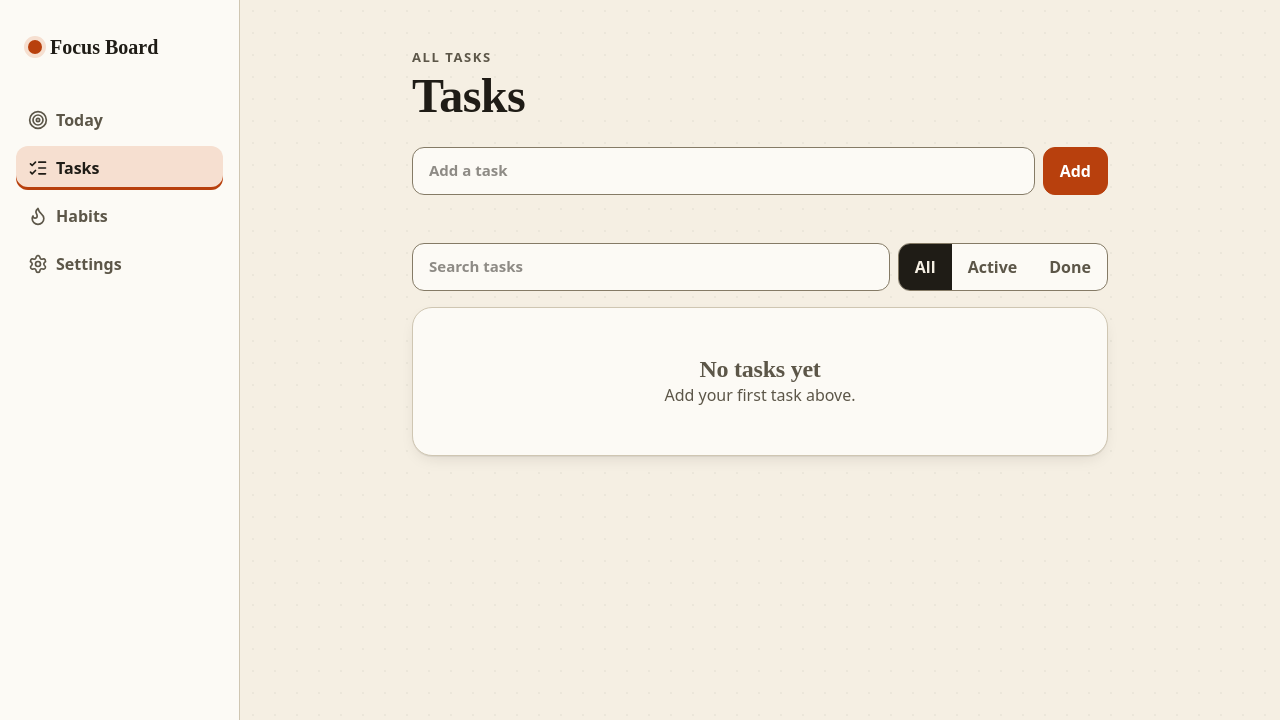
AC9: persistence › surfaces a failed save
This screenshot has width=1280, height=720.
Type "x" into the field named "New task" at [723, 171], box x1=412 y1=147 x2=1035 y2=195
Then press Enter
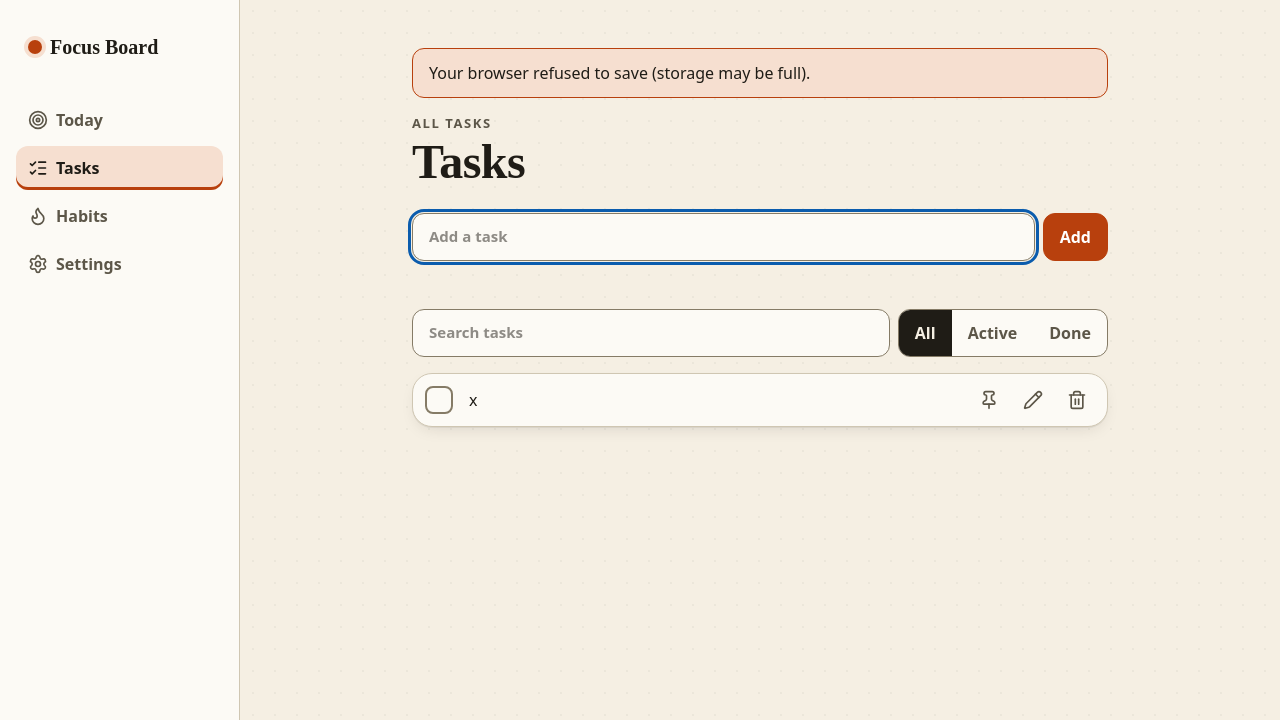
Expected: the text "Your browser refused to save (storage may be full)." is shown, x1=412 y1=48 x2=1108 y2=98
